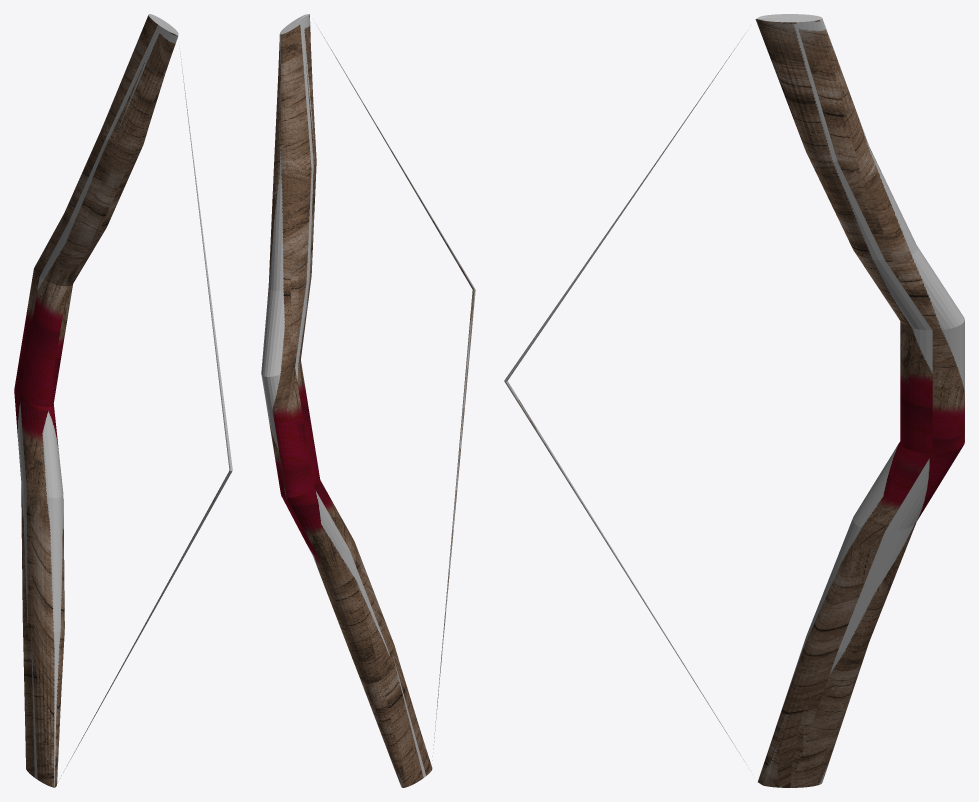
Rendered from Protagonista16.obj.
The picture shows the model from 3 angles, left to right: view 1: azimuth 30°, elevation 25°; view 2: azimuth 150°, elevation 25°; view 3: azimuth 270°, elevation 25°; orthographic projection. The views are drawn at different scales.
Visible parts, largest first — view 1: Cilindro; view 2: Cilindro; view 3: Cilindro.
Part boxes in pixels (x1,y1,x2,y2): Cilindro: (14, 14, 232, 787); Cilindro: (261, 14, 475, 787); Cilindro: (504, 14, 964, 787).
Bounding box in the file's own units: 0.1877 × 0.9705 × 0.485.
Materials: 1 (1 with a texture image).
